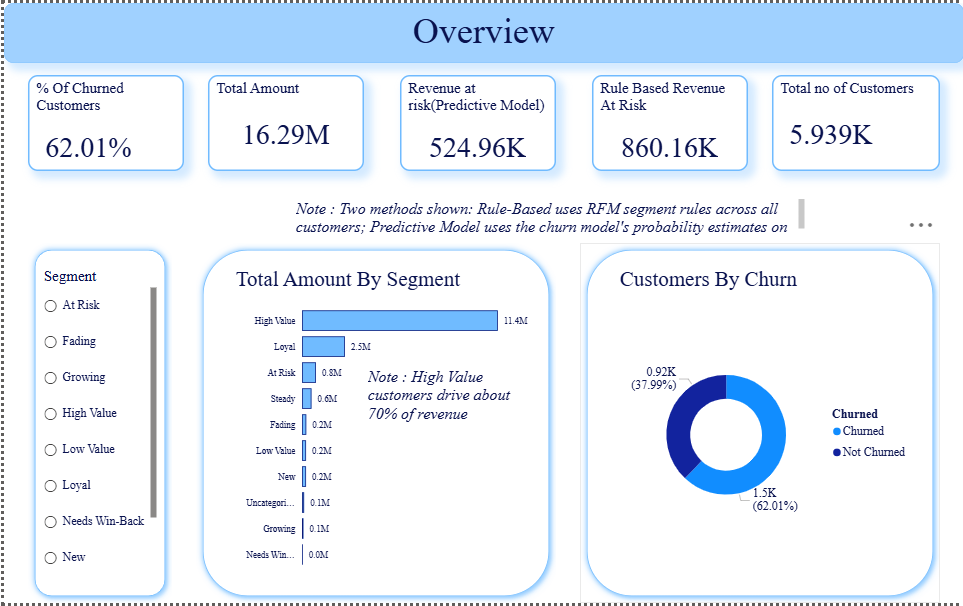

What the dashboard file says about the page in this screenshot:
{"tool":"powerbi","page":{"name":"Overview","canvas":[1280,800],"ordinal":0},"visuals":[{"type":"shape","box":[768,320,480,480],"z":0},{"type":"shape","box":[256,320,480,480],"z":1000},{"type":"shape","box":[32,320,192,480],"z":2000},{"type":"cardVisual","title":"Total no  of Customers","fields":{"Data":["CountNonNull(public rfm_scored.customer_id)"]},"box":[1024,96,224,128],"z":3000},{"type":"cardVisual","title":"Total Amount ","fields":{"Data":["Sum(public rfm_scored.monetary)"]},"box":[272,96,208,128],"z":4000},{"type":"cardVisual","title":"% Of Churned Customers","fields":{"Data":["Avg(public churn_feature.churned)"]},"box":[32,96,208,128],"z":5000},{"type":"cardVisual","title":"Revenue at risk(Predictive Model)","fields":{"Data":["Sum(Churn Model rfm project.revenue_at_risk)"]},"box":[528,96,208,128],"z":6000},{"type":"cardVisual","title":"Rule Based Revenue At Risk","fields":{"Data":["public rfm_scored.Rule-Based Revenue at Risk"]},"box":[784,96,208,128],"z":7000},{"type":"donutChart","title":"Customers By Churn","fields":{"Y":["CountNonNull(public churn_feature.customer_id)"],"Category":["public churn_feature.Churn status"]},"box":[816,352,400,416],"z":8000},{"type":"clusteredBarChart","title":"Total Amount By Segment","fields":{"Category":["public rfm_scored.segment"],"Y":["Sum(public rfm_scored.monetary)"]},"box":[304,352,400,416],"z":9000},{"type":"listSlicer","title":"Segment","fields":{"Values":["public rfm_scored.segment"]},"box":[48,352,160,416],"z":10000},{"type":"textbox","box":[0,0,1280,80],"z":11000},{"type":"textbox","box":[480,480,208,96],"z":12000},{"type":"textbox","box":[384,256,688,64],"z":13000}]}

Visuals, with their boxes in screenshot pixels (x1, y1, x2, y2), scaled from the page's 1280x800 canvas onto the 963x606 screenshot:
shape: left=578, top=242, right=939, bottom=605
shape: left=193, top=242, right=554, bottom=605
shape: left=24, top=242, right=169, bottom=605
"Total no  of Customers" cardVisual: left=770, top=73, right=939, bottom=170
"Total Amount " cardVisual: left=205, top=73, right=361, bottom=170
"% Of Churned Customers" cardVisual: left=24, top=73, right=181, bottom=170
"Revenue at risk(Predictive Model)" cardVisual: left=397, top=73, right=554, bottom=170
"Rule Based Revenue At Risk" cardVisual: left=590, top=73, right=746, bottom=170
"Customers By Churn" donutChart: left=614, top=267, right=915, bottom=582
"Total Amount By Segment" clusteredBarChart: left=229, top=267, right=530, bottom=582
"Segment" listSlicer: left=36, top=267, right=156, bottom=582
textbox: left=0, top=0, right=962, bottom=61
textbox: left=361, top=364, right=518, bottom=436
textbox: left=289, top=194, right=807, bottom=242
